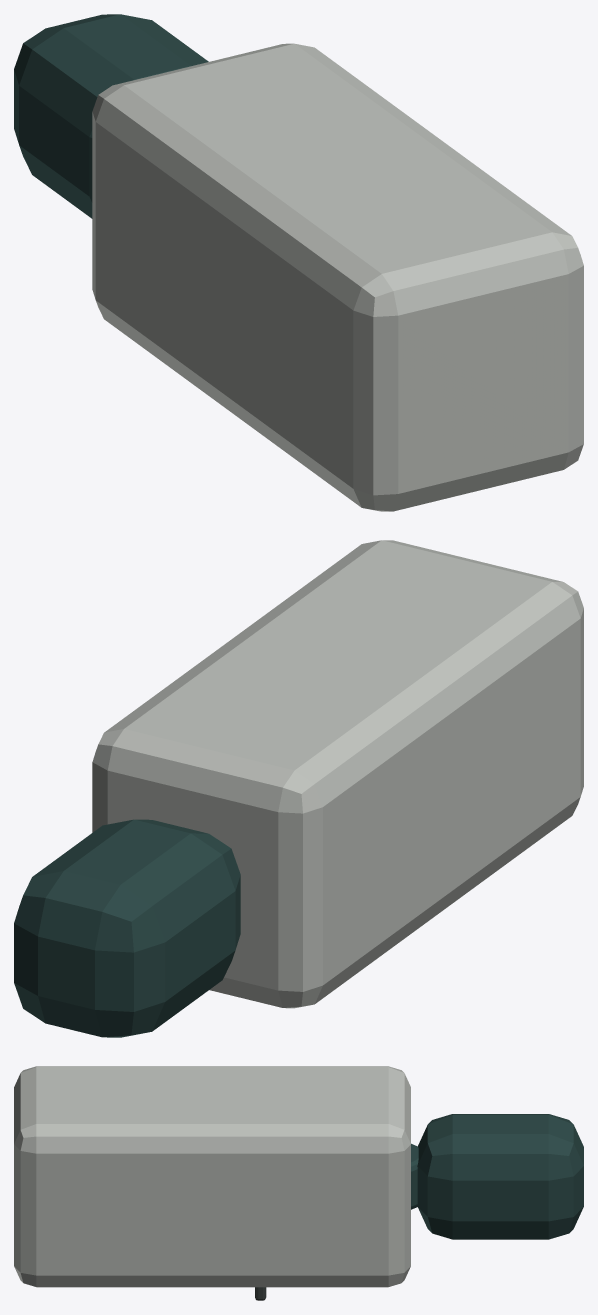
Rendered from OfficeWaterCooler.fbx.
3 views of the same model, one above another, from view 1: azimuth 30°, elevation 25°; view 2: azimuth 150°, elevation 25°; view 3: azimuth 270°, elevation 25° (orthographic). The views are drawn at different scales.
Parts seen in each view (by area): view 1: cooler base, cooler bottle; view 2: cooler base, cooler bottle; view 3: cooler base, cooler bottle, cooler bottle neck.
Part boxes in pixels (x1,y1,x2,y2): cooler base: (92,43,583,511); cooler bottle: (14,14,208,218); cooler base: (92,540,583,1008); cooler bottle: (14,819,240,1037); cooler base: (14,1066,410,1287); cooler bottle: (417,1114,583,1239); cooler bottle neck: (411,1143,418,1209).
Bounding box in the file's own units: 56 × 66 × 178.
